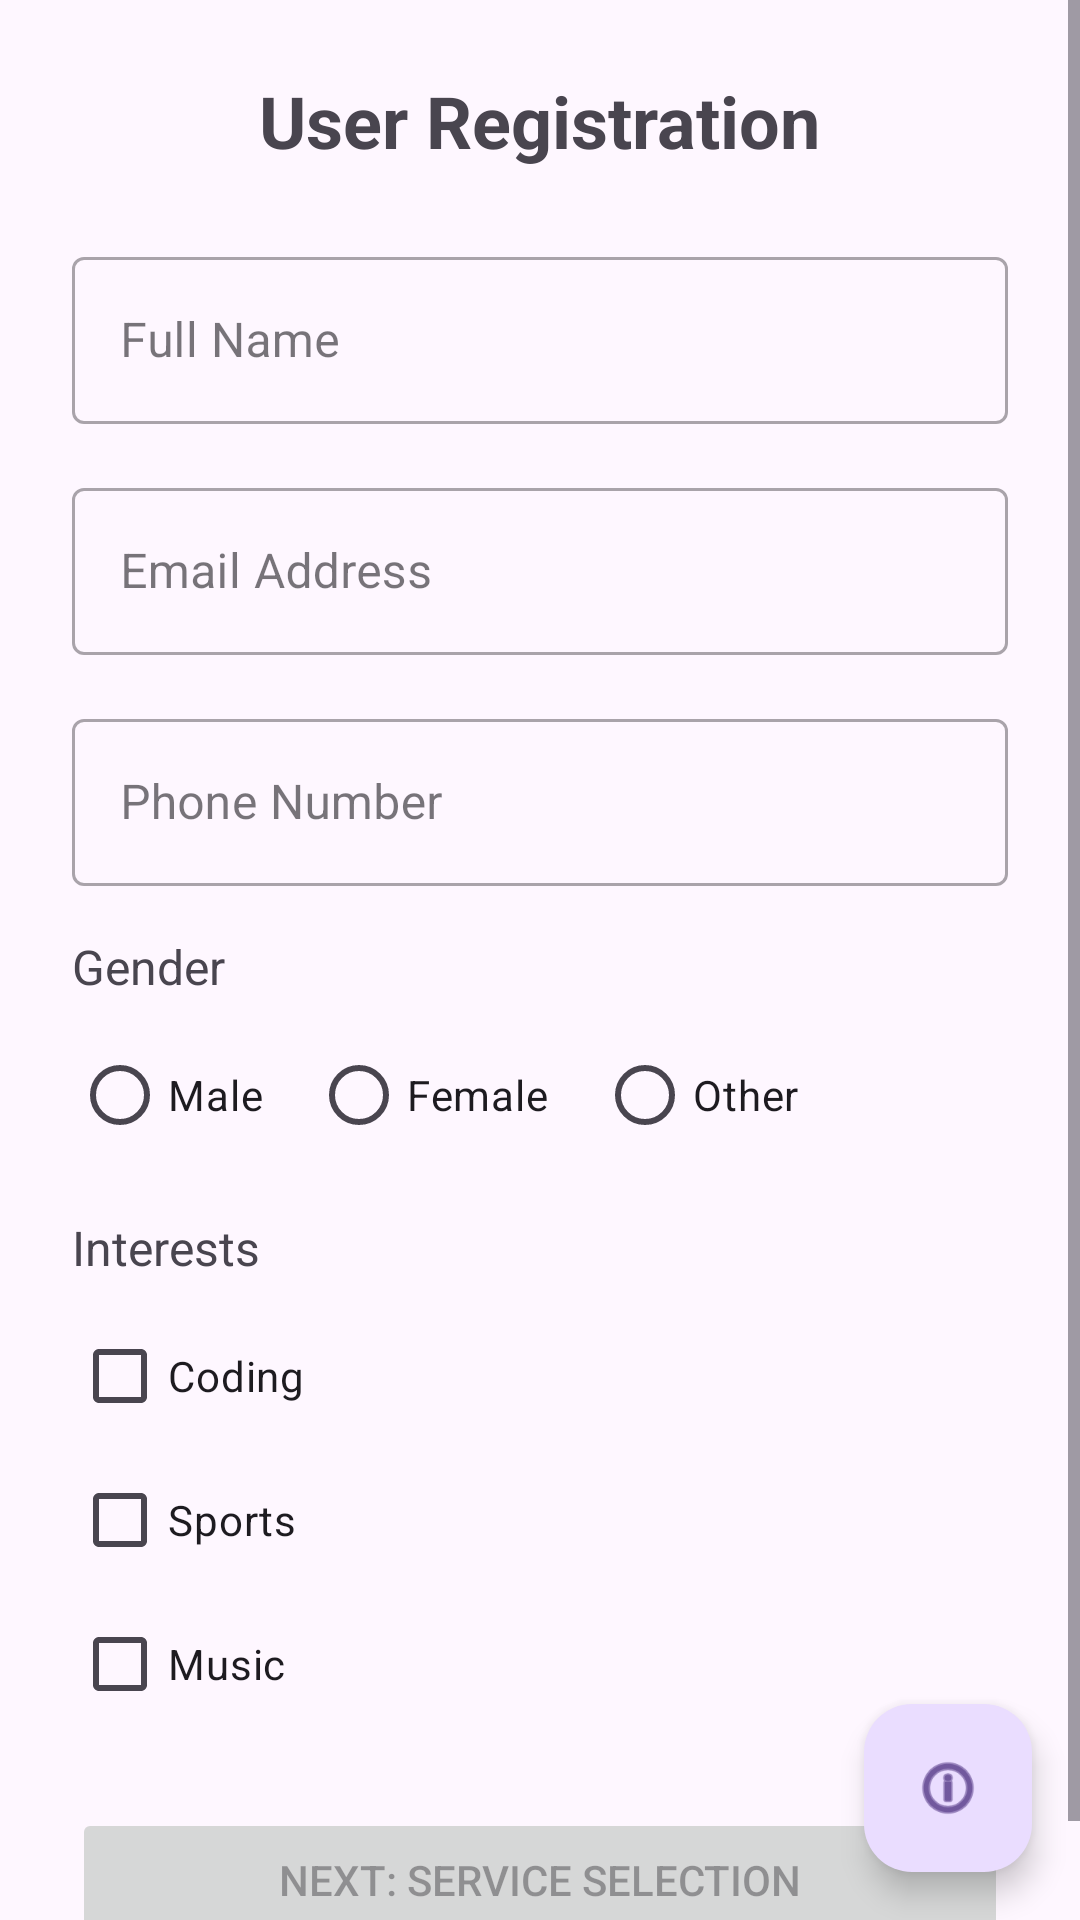

Icons on this 1080px x 1920px Android screen, each with its box as Rect(x1, y1, x2, y2):
Info: Rect(864, 1704, 1032, 1872)
